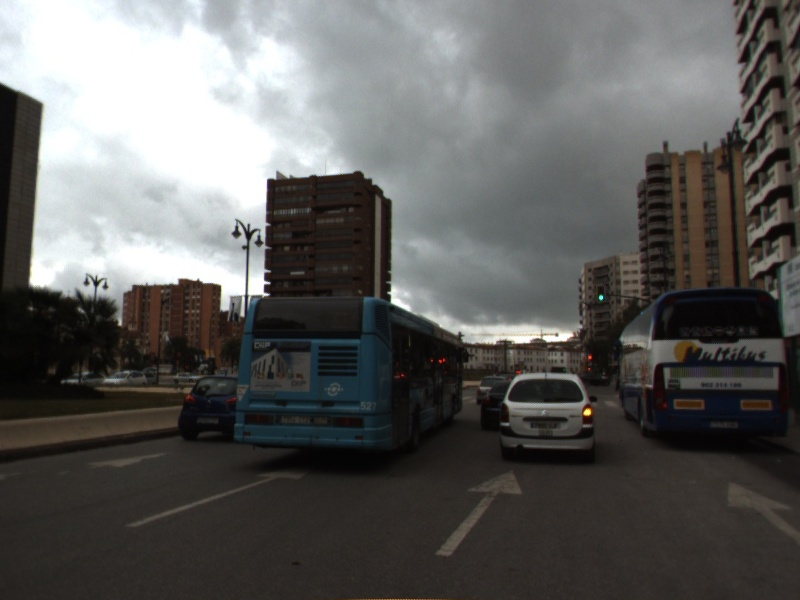STRAIGHT: (119, 461, 315, 532), (431, 466, 528, 561), (723, 479, 800, 544)
